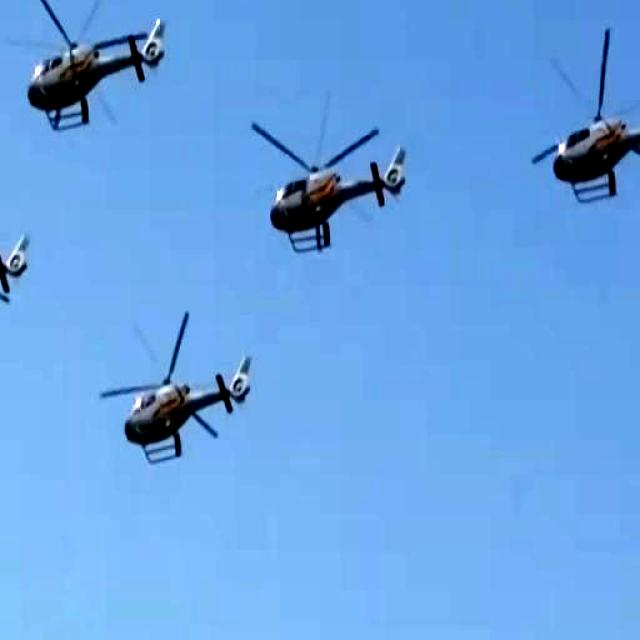drone: (98, 312, 258, 480), (251, 110, 415, 266), (20, 0, 171, 148), (528, 28, 640, 211), (0, 160, 29, 354)
